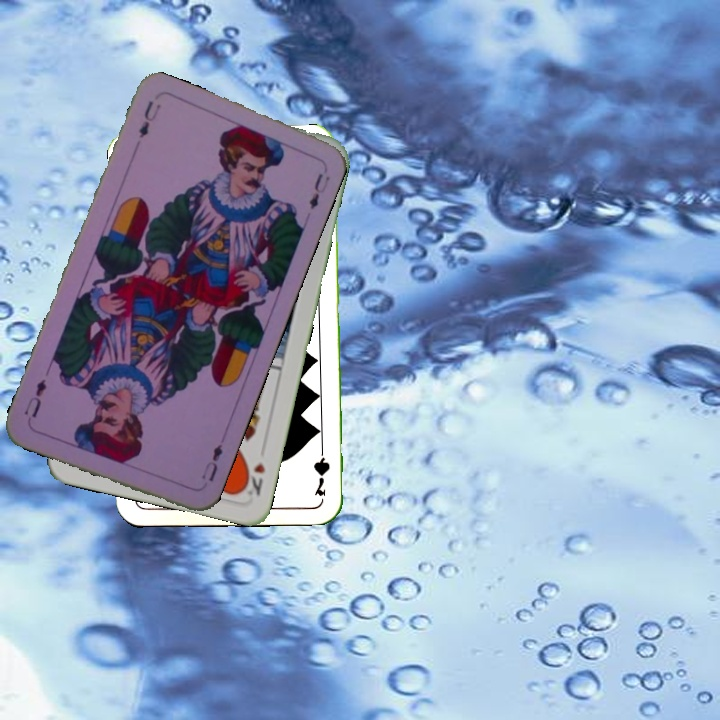EU: (134, 97, 163, 141), (197, 440, 225, 484)
G7: (310, 439, 333, 498)
HK: (238, 457, 268, 498)
